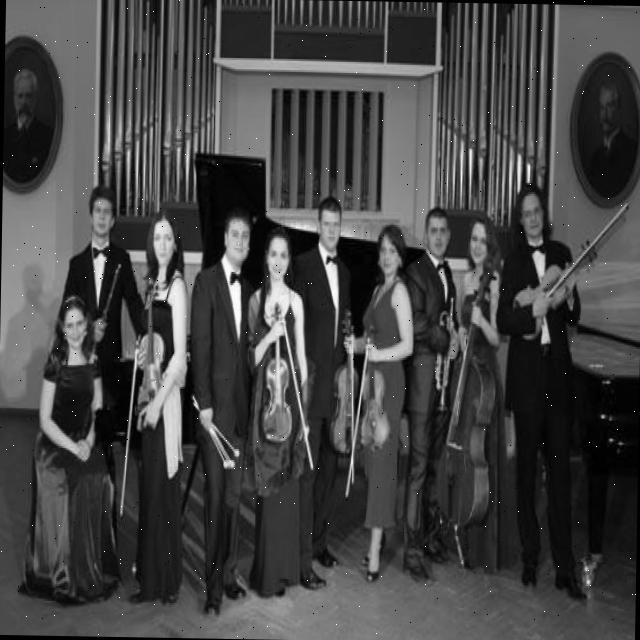cello: (435, 250, 502, 526)
violin: (512, 237, 598, 340), (259, 300, 294, 447), (328, 310, 362, 456), (132, 276, 165, 422), (358, 323, 394, 450)
